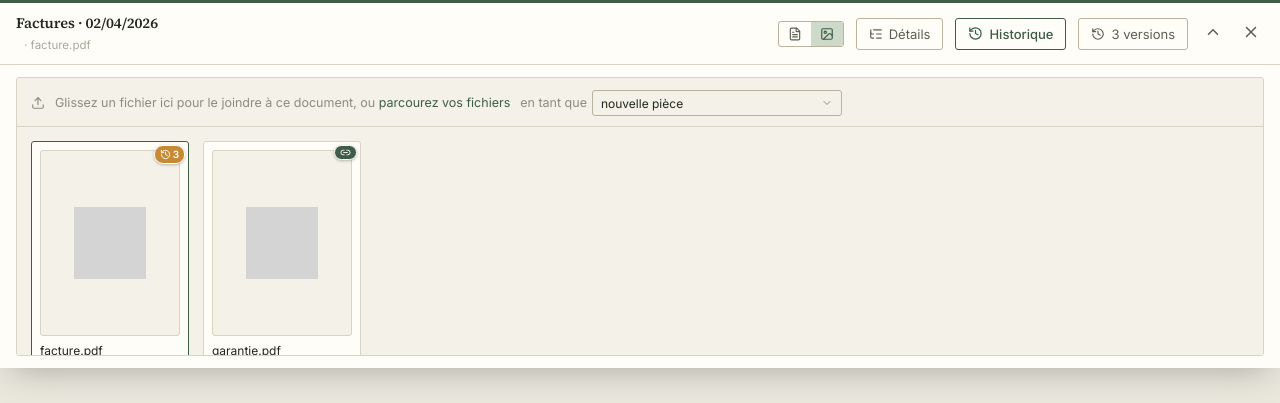
la barre d'outils d'une pièce › n'apparaît qu'une fois une pièce choisie
Click the text "garantie.pdf" at (246, 350), box [212,343,281,358]
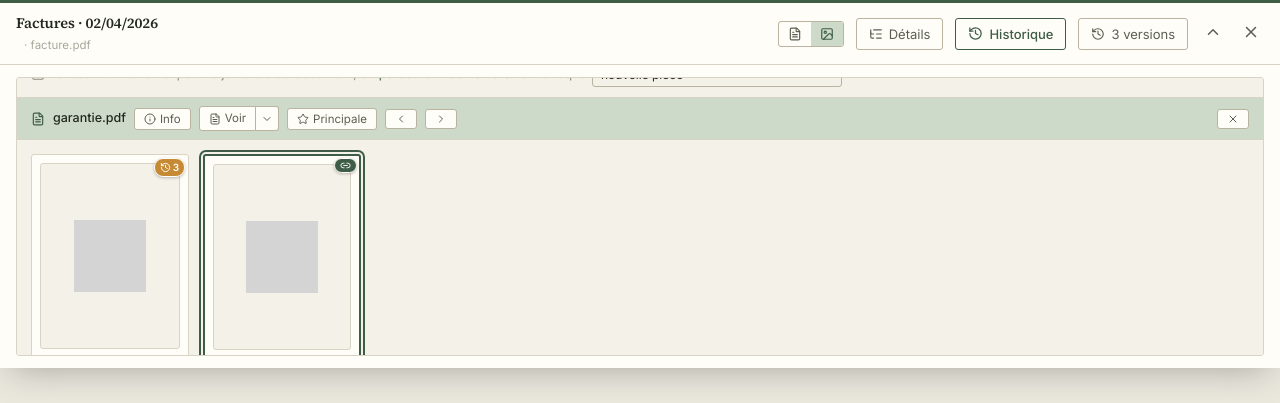
Check: the link titled "Lire cette pièce" is shown, box [199,106,256,131]
Check: the button titled "Ce que l'on sait de cette pièce" is shown, box [134,108,191,130]
